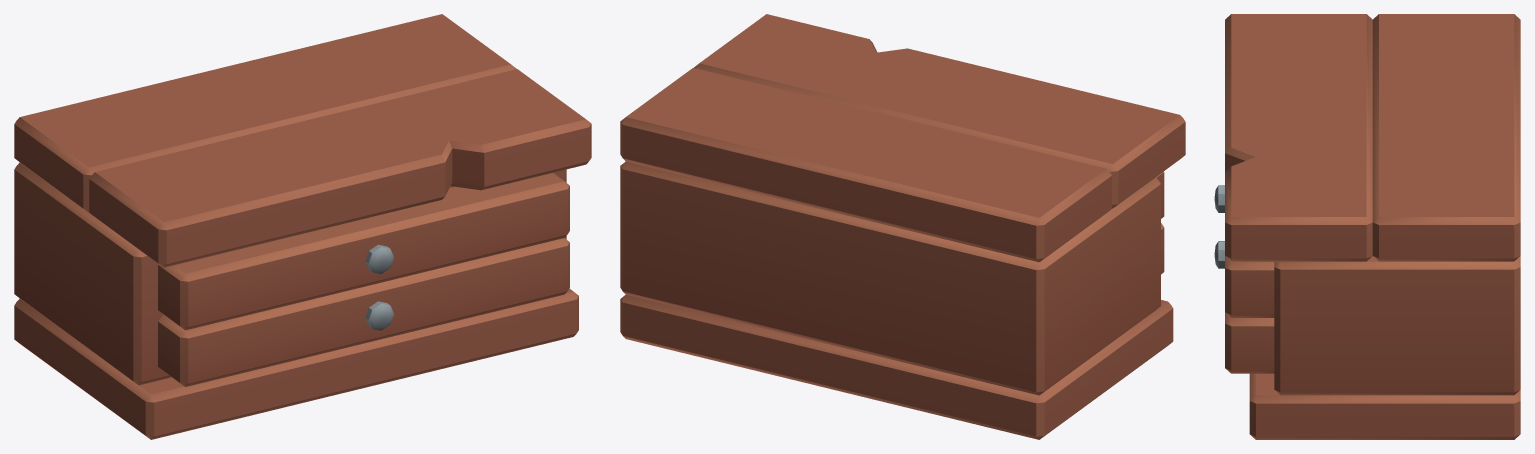
The model's file is bar_straight_B.glb.
The picture shows the model from 3 angles, left to right: view 1: azimuth 30°, elevation 25°; view 2: azimuth 150°, elevation 25°; view 3: azimuth 270°, elevation 25°; orthographic projection. The views are drawn at different scales.
Visible parts, largest first — view 1: bar_straight_B; view 2: bar_straight_B; view 3: bar_straight_B.
Boxes of the visible parts, x1=… form: bar_straight_B: x1=14, y1=14, x2=591, y2=439; bar_straight_B: x1=620, y1=14, x2=1185, y2=439; bar_straight_B: x1=1214, y1=14, x2=1520, y2=439.
Bounding box in the file's own units: 2 × 1 × 1.24.
1 material, 1 textured.
